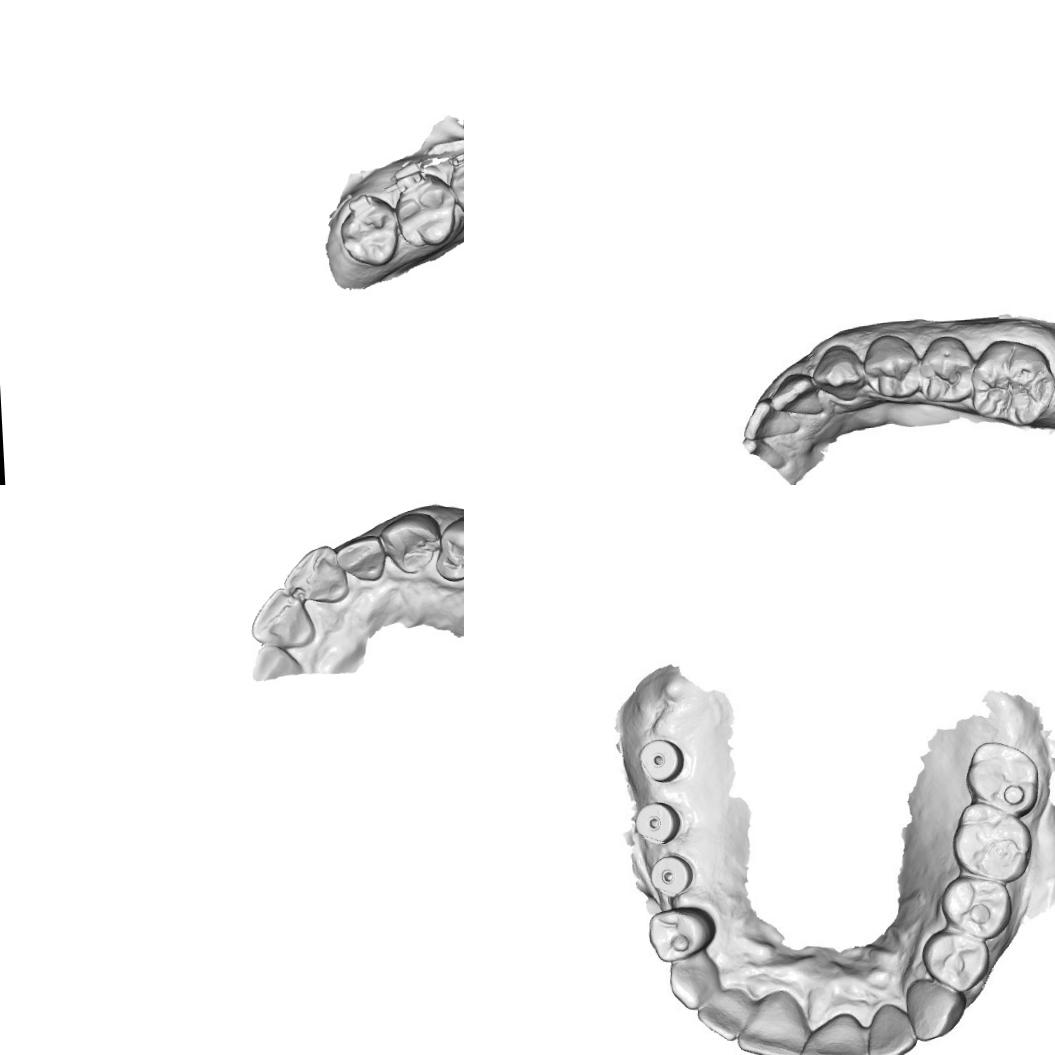canine: (380, 509, 441, 576), (904, 976, 962, 1042), (814, 338, 868, 404), (667, 952, 723, 1007)
implant: (642, 850, 698, 904), (636, 732, 688, 789), (632, 798, 685, 849)
incisor: (244, 585, 317, 652), (278, 543, 351, 605), (738, 993, 803, 1055), (740, 396, 804, 442), (864, 999, 916, 1055), (333, 534, 391, 582), (698, 988, 751, 1038), (799, 1015, 865, 1055), (769, 370, 821, 420)
molar: (965, 336, 1055, 430), (950, 795, 1030, 882), (965, 738, 1039, 812), (393, 172, 459, 248), (337, 192, 401, 268)
premolar: (860, 332, 924, 402), (922, 926, 988, 992), (944, 873, 1010, 937), (916, 332, 972, 407), (648, 904, 710, 958), (432, 512, 464, 584), (446, 161, 464, 222)
